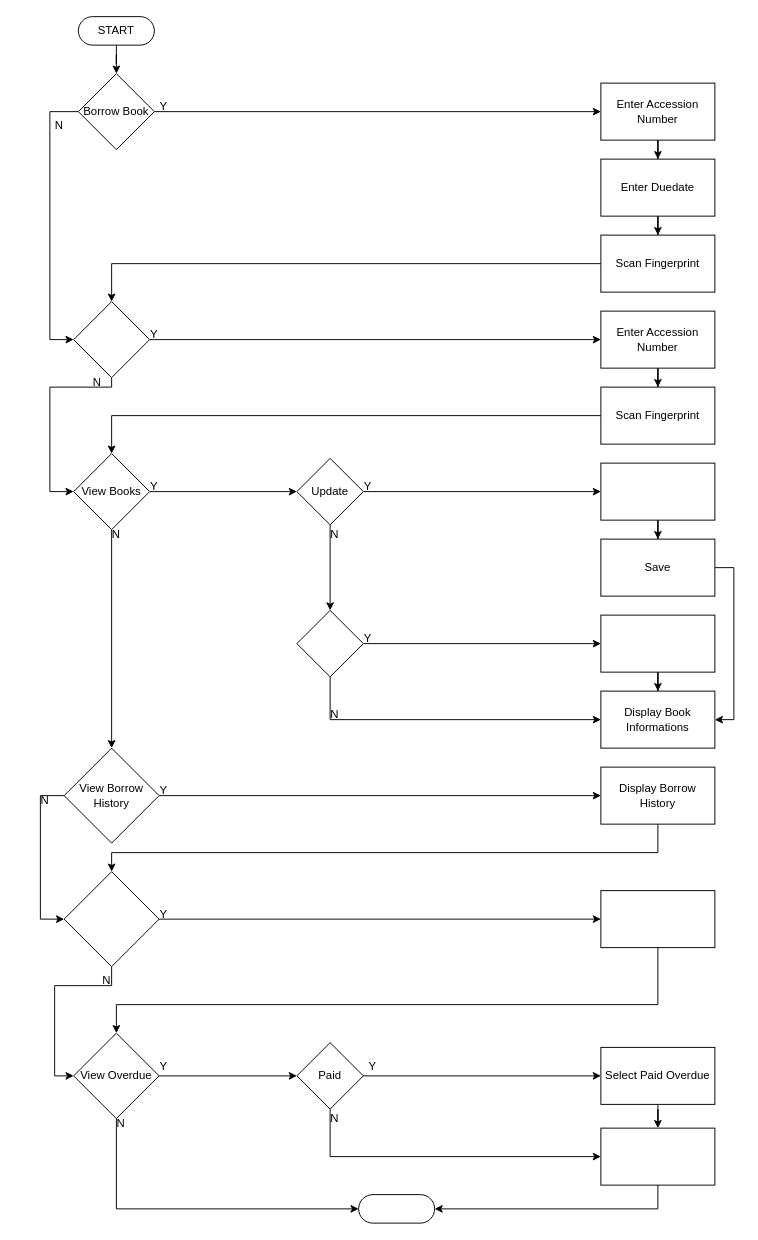
This 758x1240 diagram has some shape labels left out. The shapes that lost their labels are listed below. From the top down, each one's centre as x and y in pixels, then its label:
the point at 111,339: Return Book
the point at 657,491: Enter Book Details
the point at 329,643: Delete
the point at 657,643: Delete Book Information
the point at 111,919: View Return History
the point at 657,919: Display Return History
the point at 657,1156: Display Overdue Details
the point at 396,1208: END
